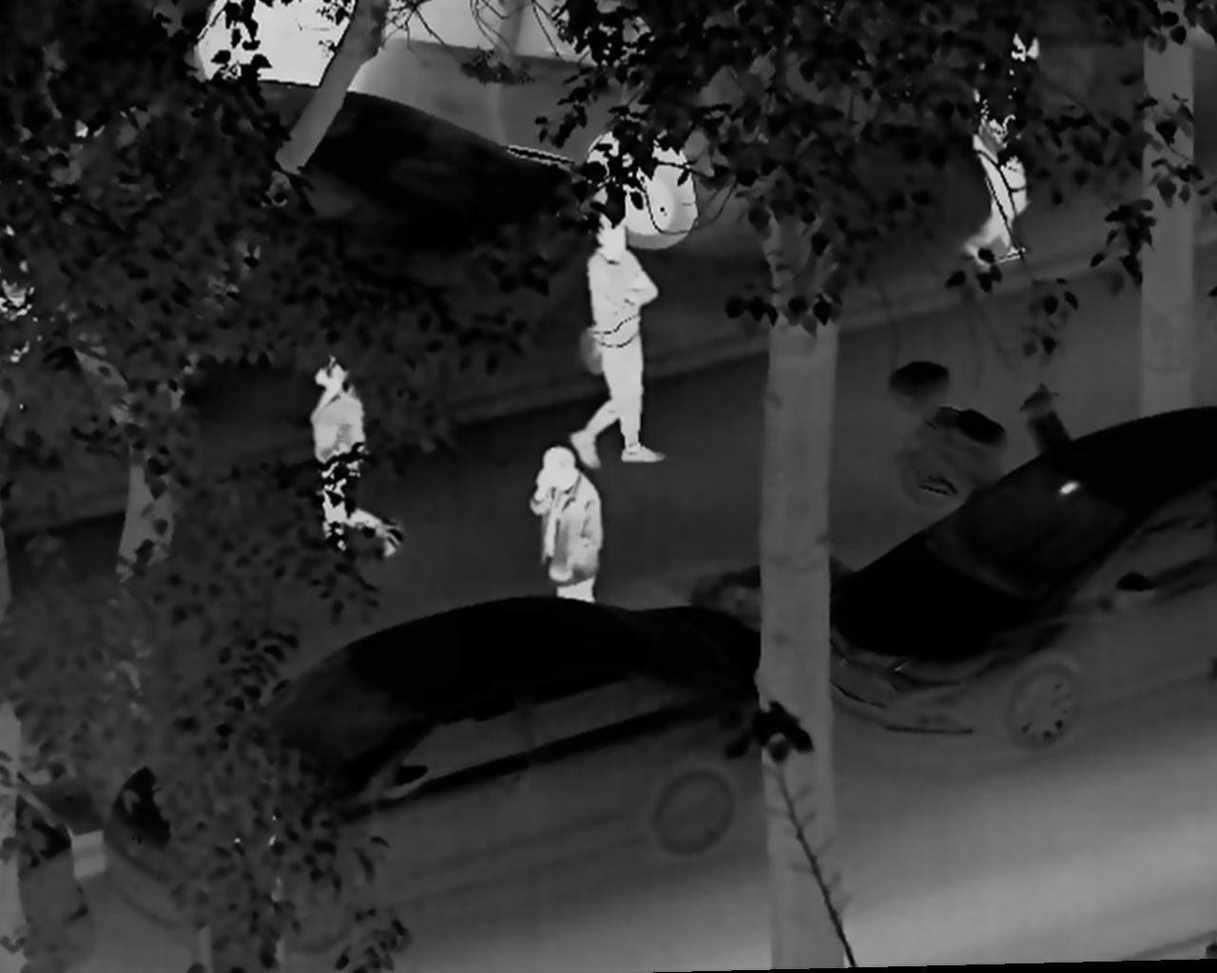person: (567, 218, 674, 470), (296, 349, 404, 570), (964, 28, 1045, 274), (510, 443, 608, 608)
